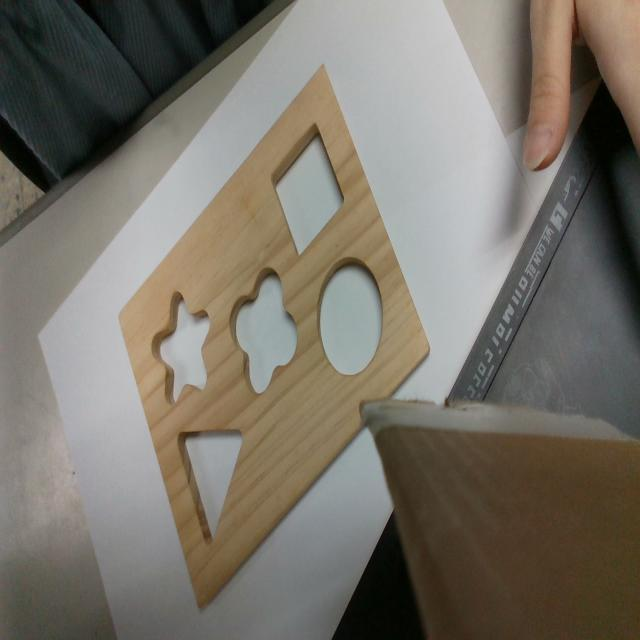circle: (316, 259, 385, 376)
flower: (229, 266, 298, 393)
square: (271, 124, 346, 259)
star: (153, 294, 208, 403)
triangle: (177, 427, 244, 549)
